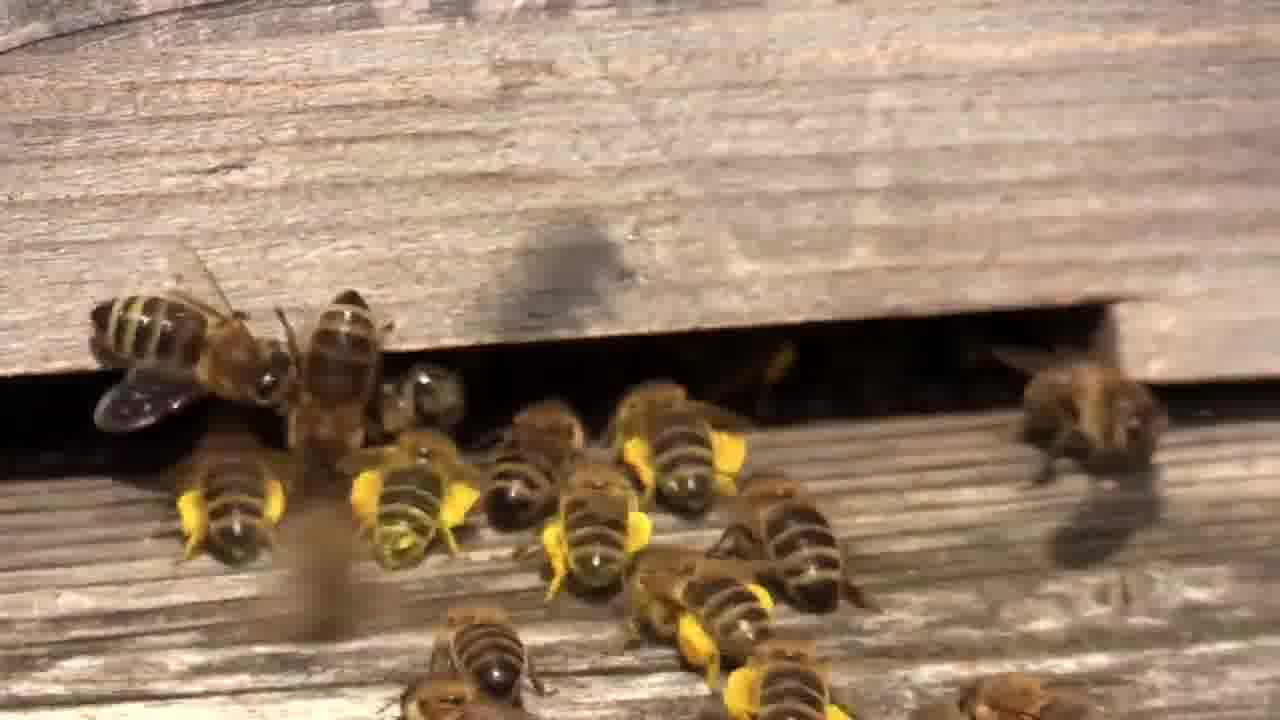pollen: (605, 379, 752, 509), (532, 447, 653, 603), (346, 425, 479, 566), (621, 535, 774, 644), (169, 439, 285, 563), (718, 646, 851, 720)
